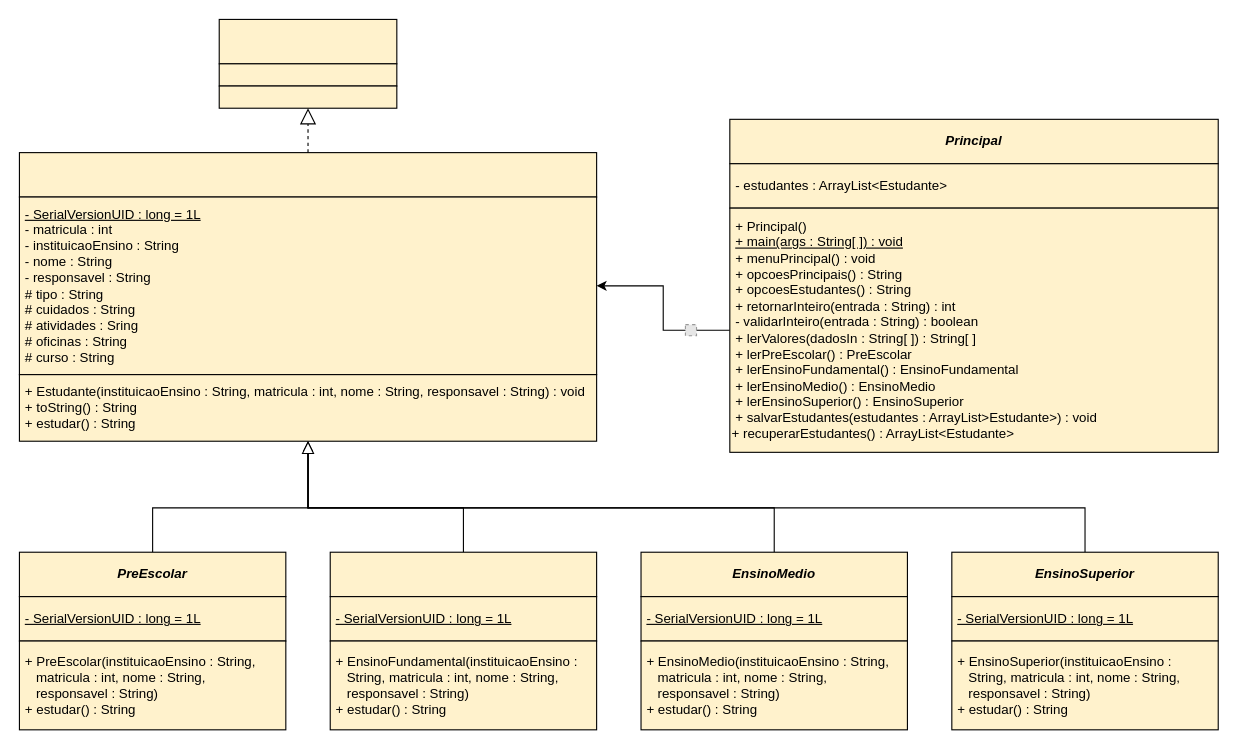
Image size: 1238x749. Some labels were removed from this diagram. Grey dashed boxes stand in for pictures. Here are the shapes that lost their labels. From the top down, the box of each, then its label:
(218, 18, 397, 64): << Interface >> Serializable
(18, 152, 597, 197): Estudante
(329, 551, 597, 597): EnsinoFundamental
